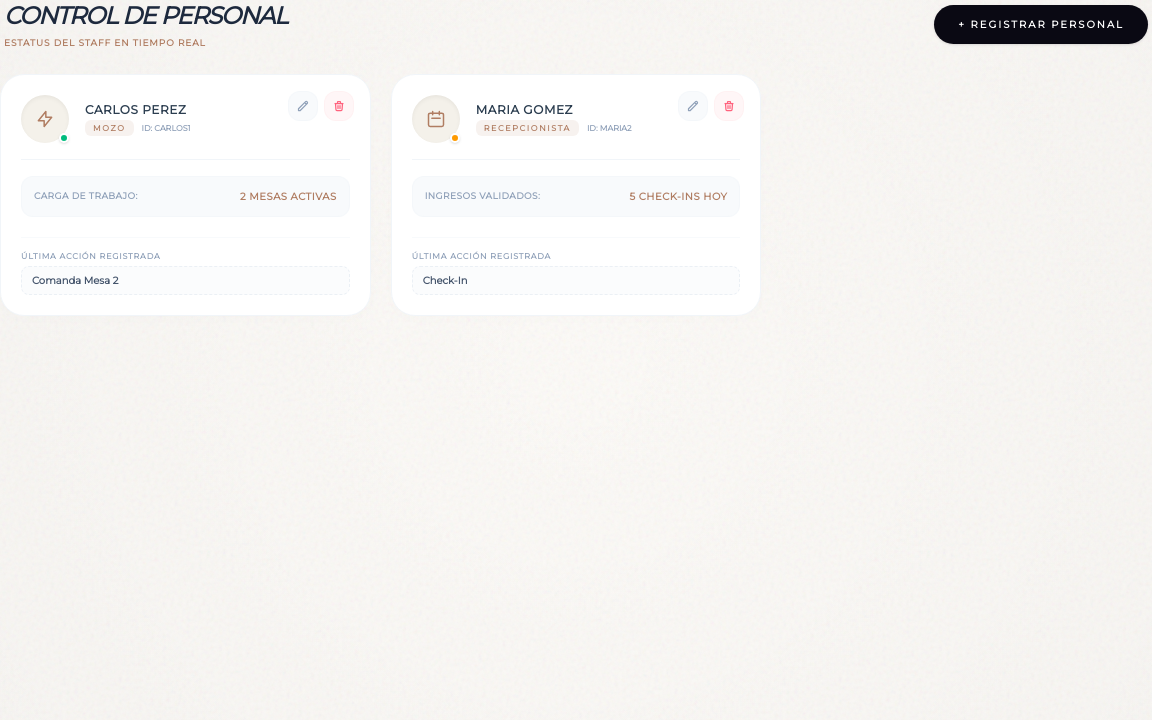
it: 🧪 Tests para ViewUsuarios › Debería cerrar el formulario de edición al presionar Cancelar
Check: the text "CARLOS PEREZ" is shown, box [85,102,186,116]
Click the 2nd button at (303, 106), box [288,90,318,120]
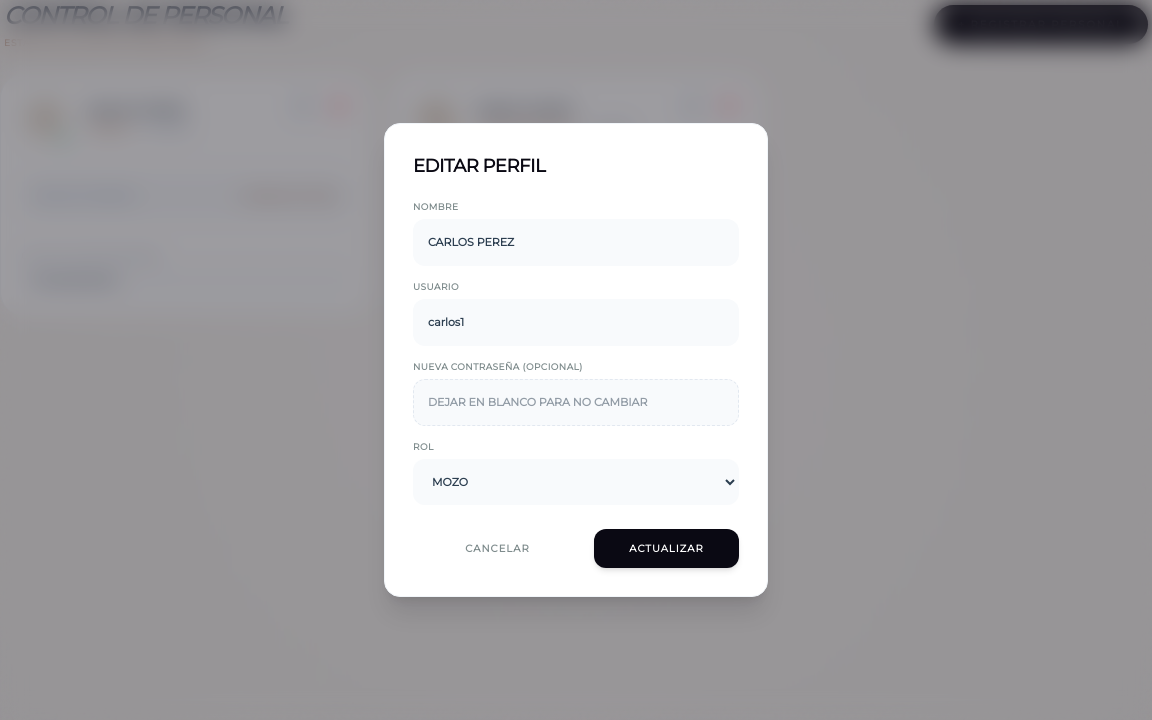
Check: the heading "Editar Perfil" is shown, box [413,155,545,177]
// Rellenar inputs de edición para cubrir esas líneas
Replace the text in the field with id "editar-staff-usuario" with "carlos_new" at (576, 323), box [413,299,739,346]
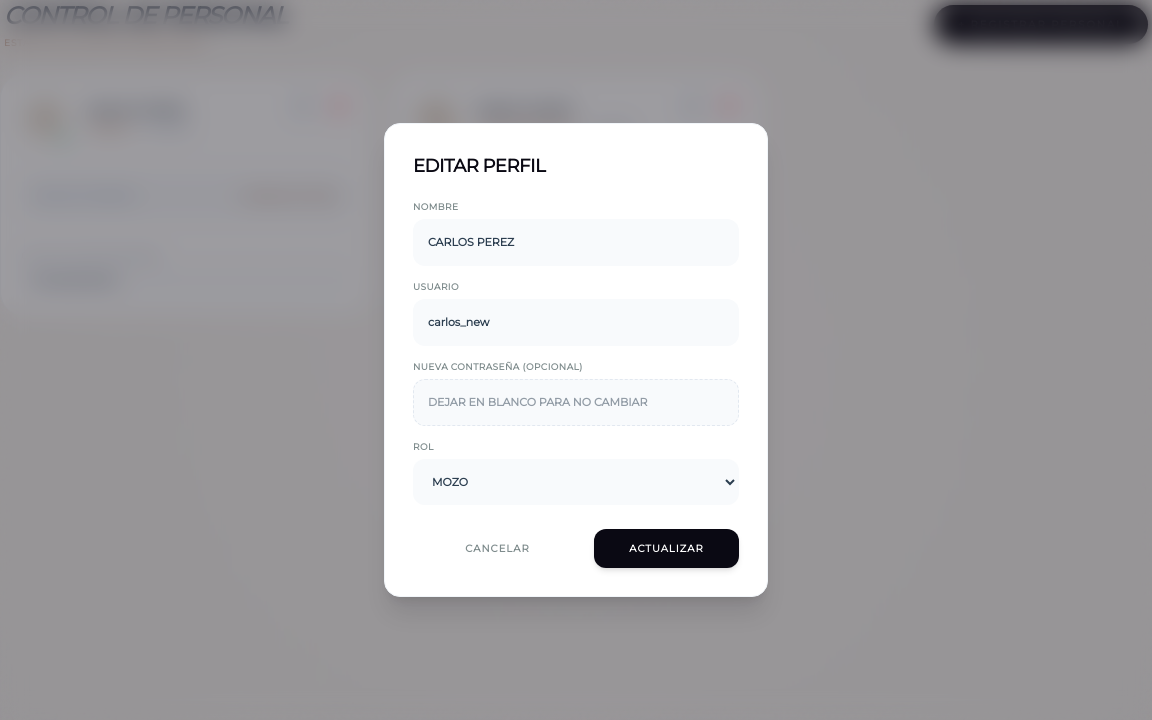
Type "carlos_pass" into the password field with id "editar-staff-password" at (576, 403), box [413,379,739,426]
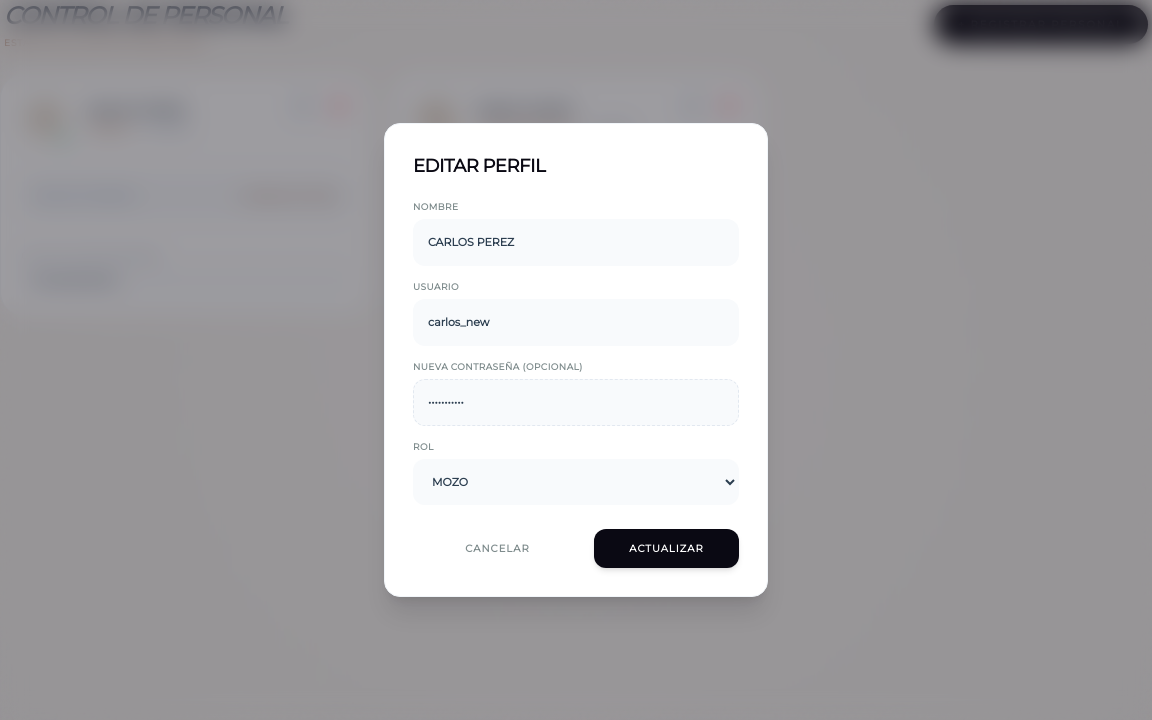
Select "ADMIN" in the dropdown with id "editar-staff-rol" at (576, 482), box [413,459,739,505]
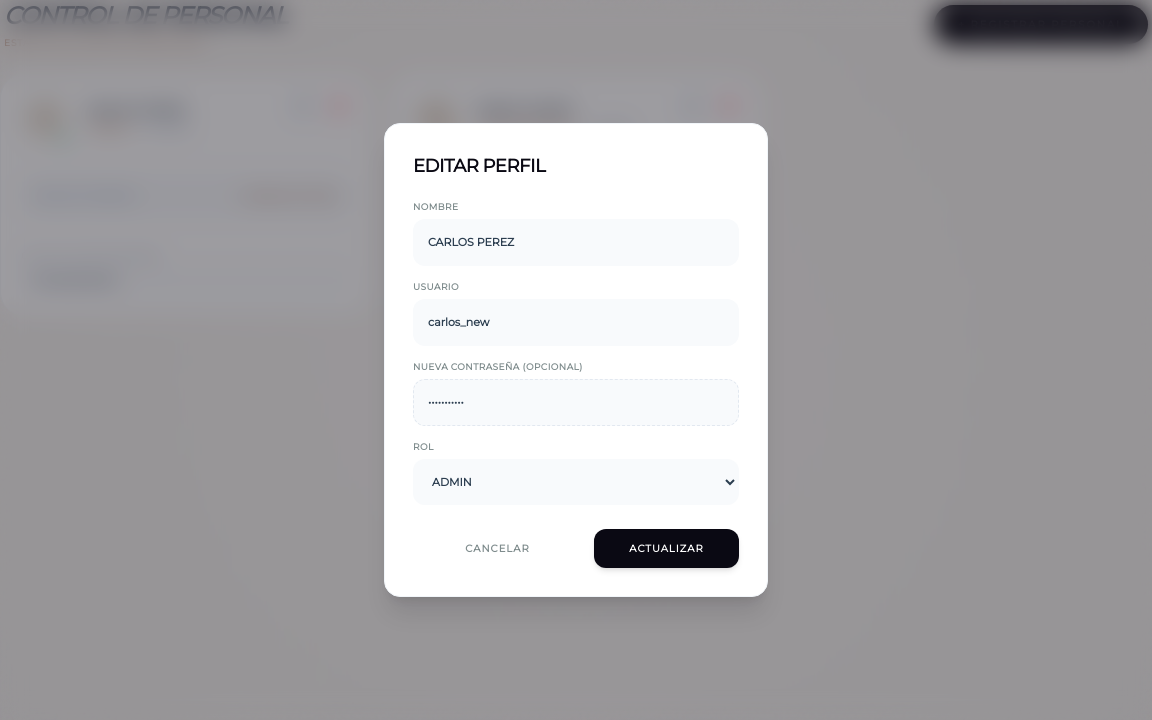
Click the button "CANCELAR" at (498, 549), box [413,529,582,568]
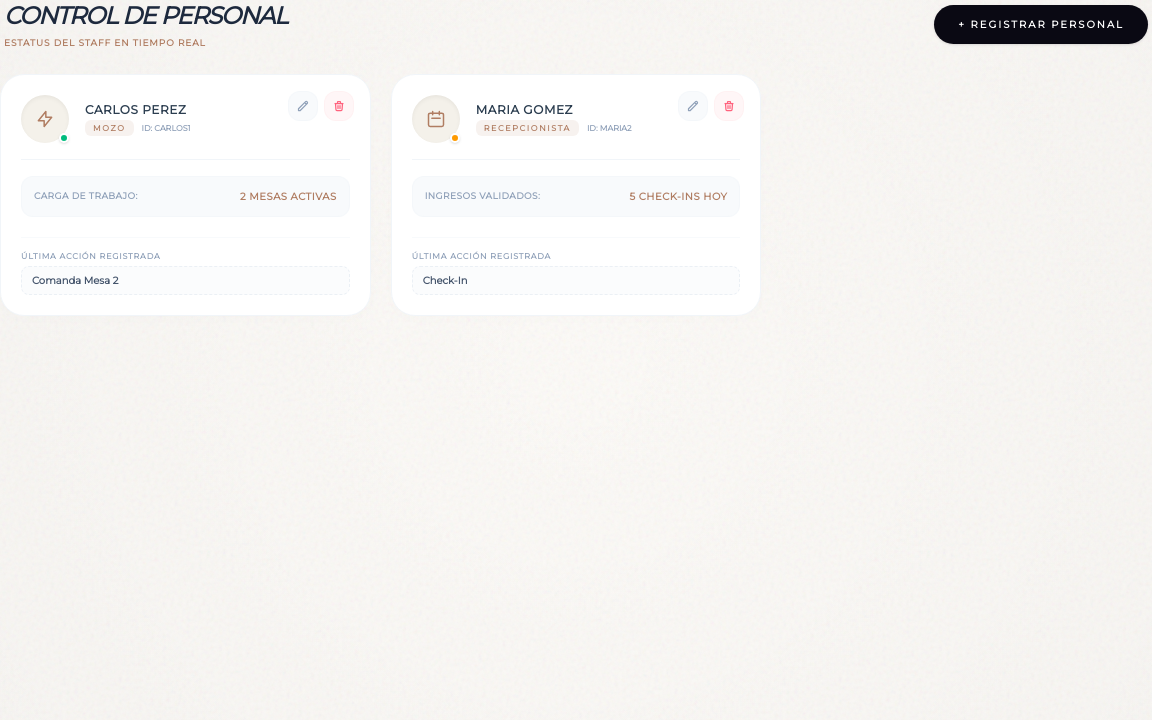
Check: the heading "Editar Perfil" is gone
